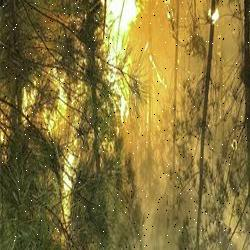fire: (0, 0, 173, 230)
